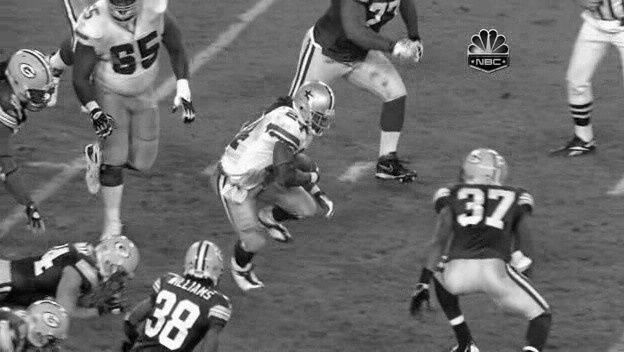person: (298, 85, 334, 133), (297, 85, 333, 133), (299, 85, 335, 133), (298, 84, 334, 132), (298, 86, 334, 134)
target_negative: (216, 254, 590, 319), (503, 198, 591, 284), (587, 74, 601, 272), (590, 232, 611, 347), (300, 260, 519, 271), (591, 111, 614, 142)
